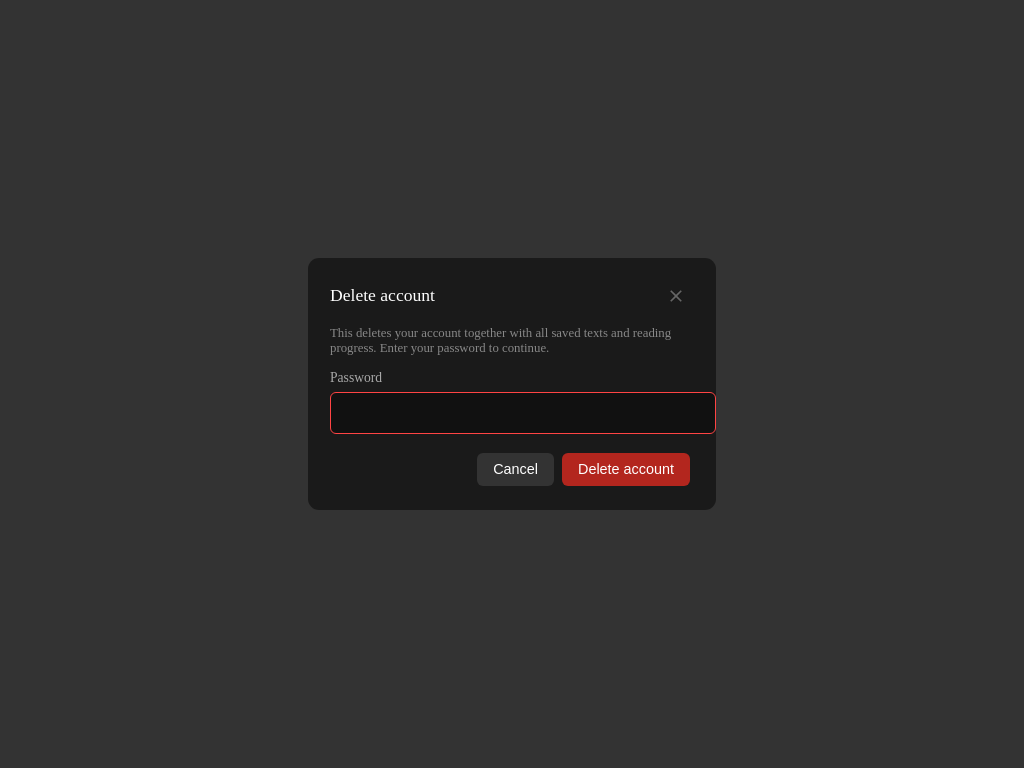
Test case: DeleteAccountModal › requires the password first
The width and height of the screenshot is (1024, 768).
Click the button "Delete account" at [626, 469], box [562, 453, 690, 486]
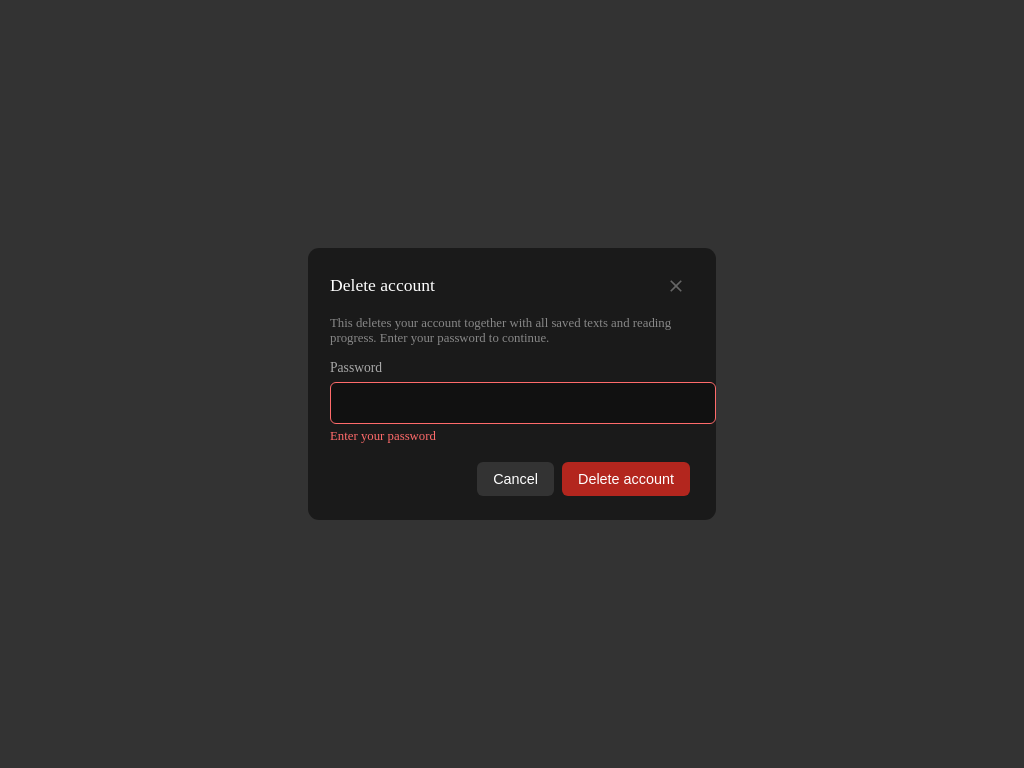
Expected: the text "Enter your password" is shown, [330, 429, 436, 443]
